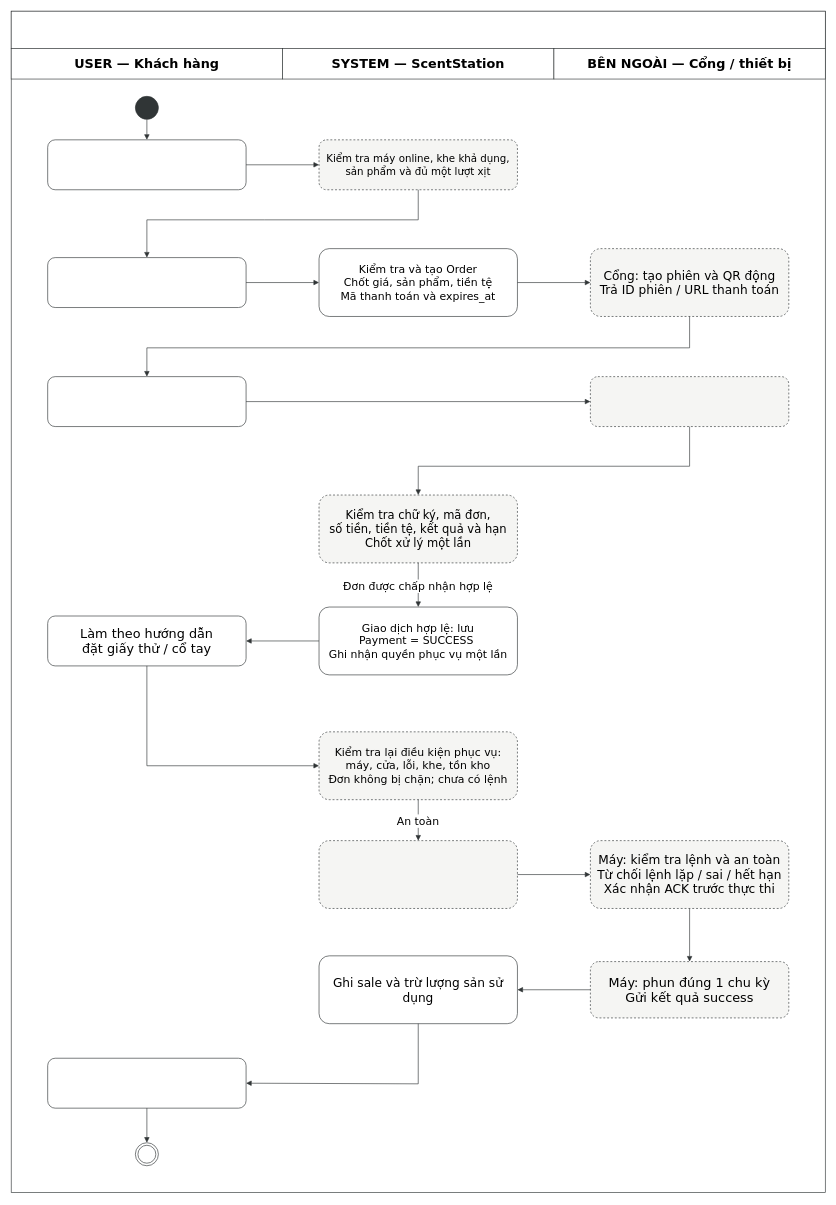
Image size: 836x1205. Some labels were removed from this diagram. Each missing label, with the centre of its shape:
Chọn mùi / khe chứa: the point at 146,164
Cổng: xử lý và gửi thông báo giao dịch: the point at 689,401
Nhận thông báo hoàn tất Hệ thống trở về màn hình chính: the point at 146,1083
Quét QR Xác nhận tại ứng dụng thanh toán: the point at 146,401
thanh toán và phun thành công: the point at 418,29
Tạo lệnh pending duy nhất Gửi commad, đích, hạn và thông tin xác thực: the point at 417,874
Xem lại mùi và giá Xác nhận mua 1 lượt xịt: the point at 146,282
